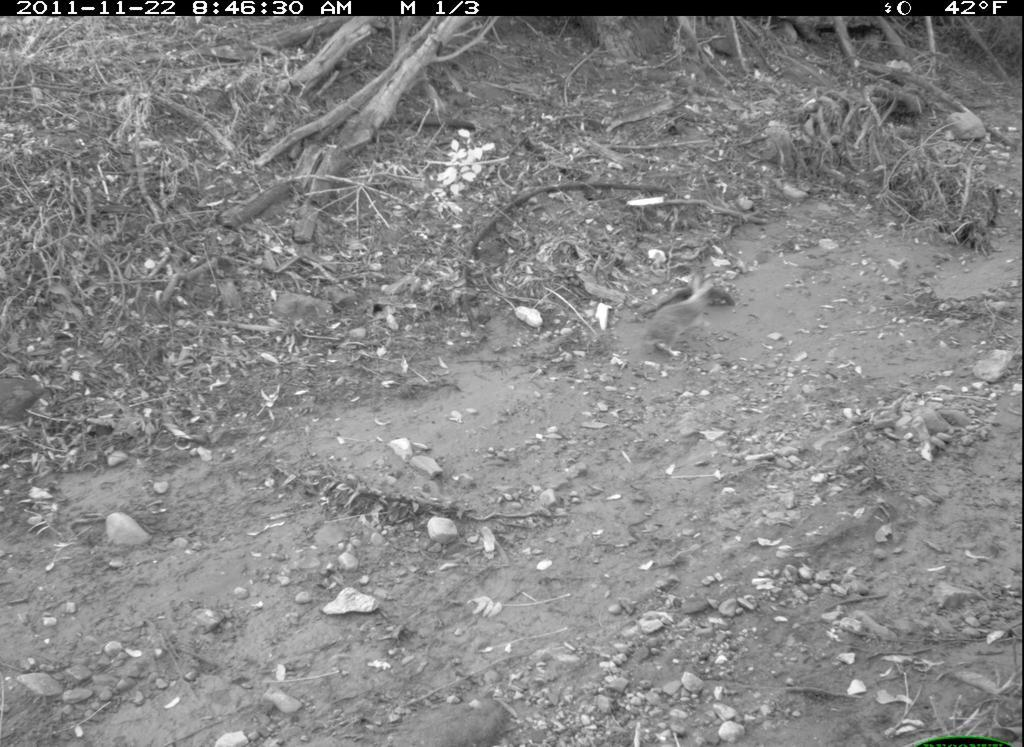rabbit: (641, 271, 721, 364)
